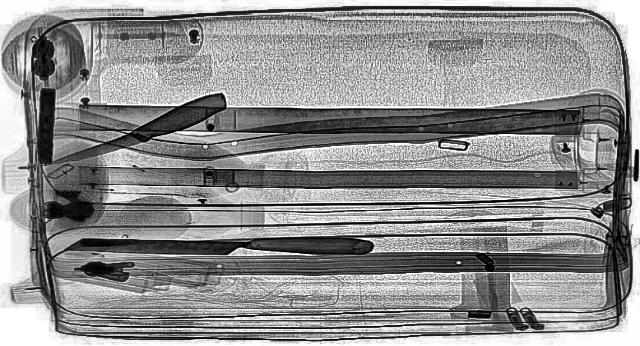Gun: (73, 258, 144, 288), (33, 86, 57, 162)
Knife: (29, 90, 241, 172), (66, 232, 374, 258)
